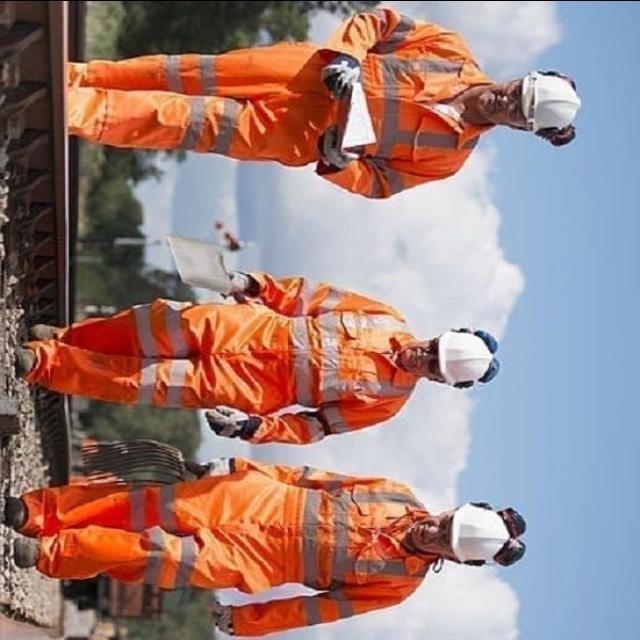helmet: (518, 52, 586, 140), (432, 320, 500, 390), (446, 500, 508, 572)
jacket: (332, 6, 478, 202), (292, 462, 413, 626), (280, 297, 418, 419)
